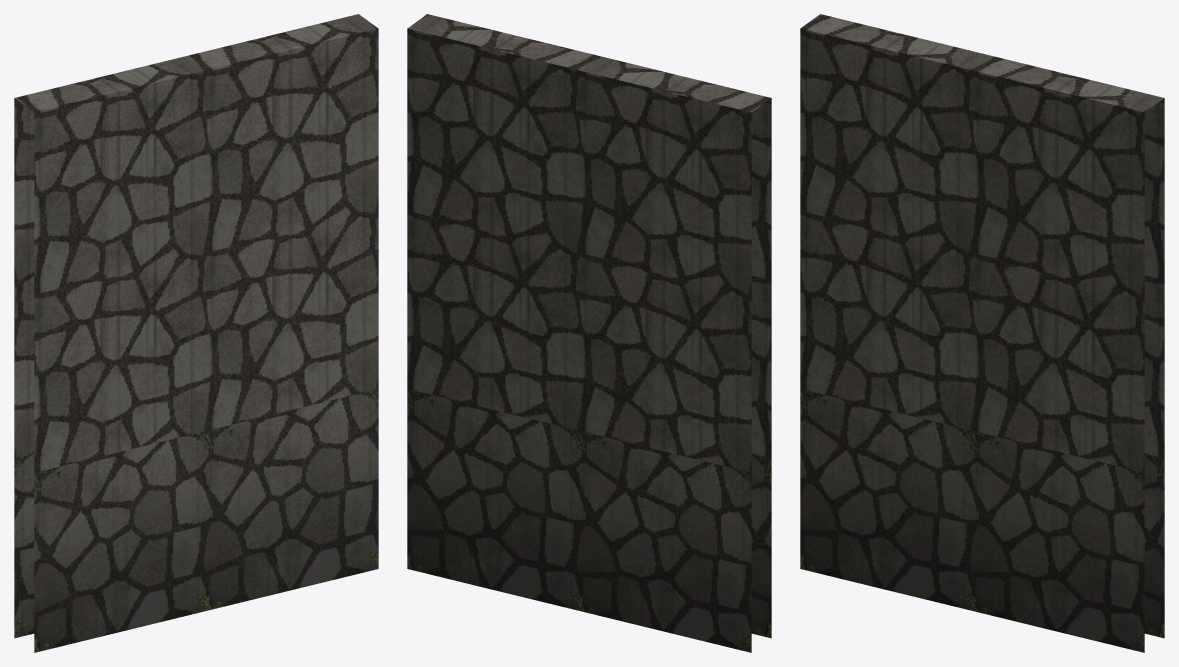
File: wall_rough.fbx
3 renders of one model, left to right at view 1: azimuth 30°, elevation 25°; view 2: azimuth 150°, elevation 25°; view 3: azimuth 330°, elevation 25°, orthographic.
Visible parts, largest first — view 1: wall_rough; view 2: wall_rough; view 3: wall_rough.
Boxes of the visible parts, <box> form: wall_rough: <box>14,14,378,652</box>; wall_rough: <box>407,14,771,652</box>; wall_rough: <box>800,14,1164,652</box>.
Size of the model in its own units: 2 by 3 by 0.2.
1 material, 1 textured.
